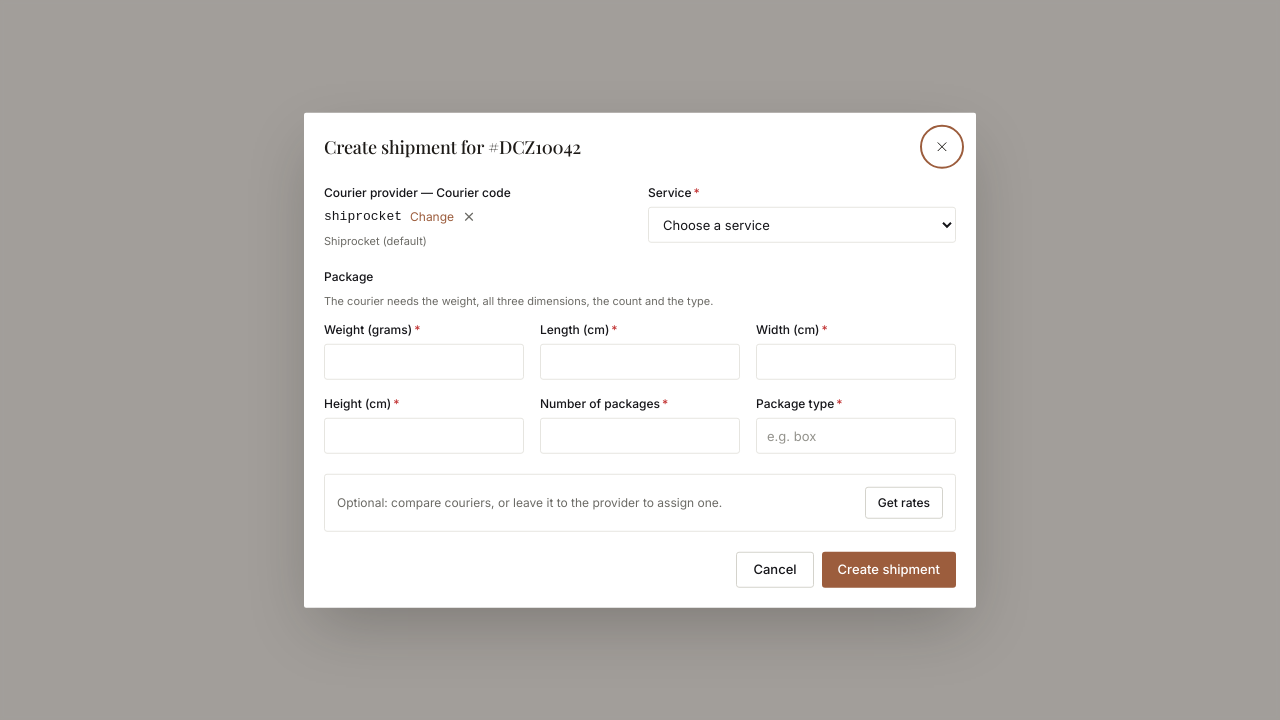
Scenario: CreateShipmentDialog › rates and courier choice › asks for the dimensions before fetching rates
Type "800" into the field labelled "Weight (grams)*".
click(424, 361); type("800")  # box x1=324 y1=343 x2=524 y2=379
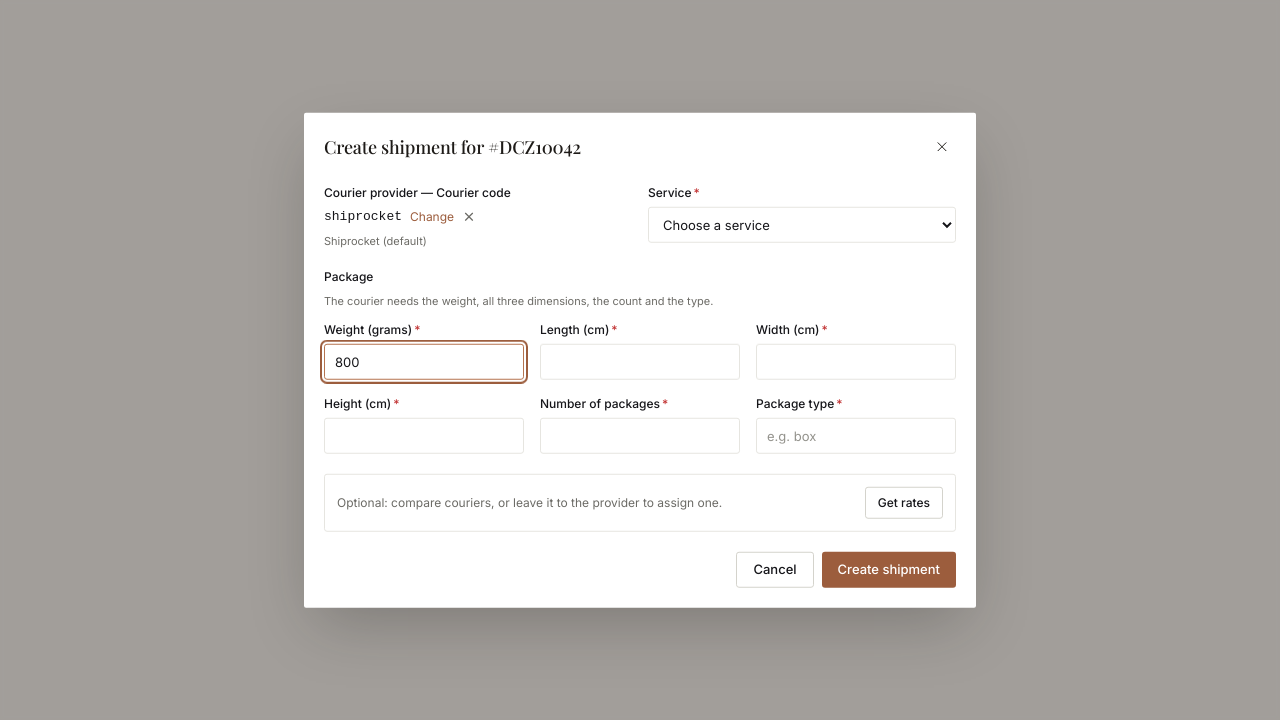
Click the button "Get rates".
click(904, 502)  # box x1=865 y1=486 x2=943 y2=518
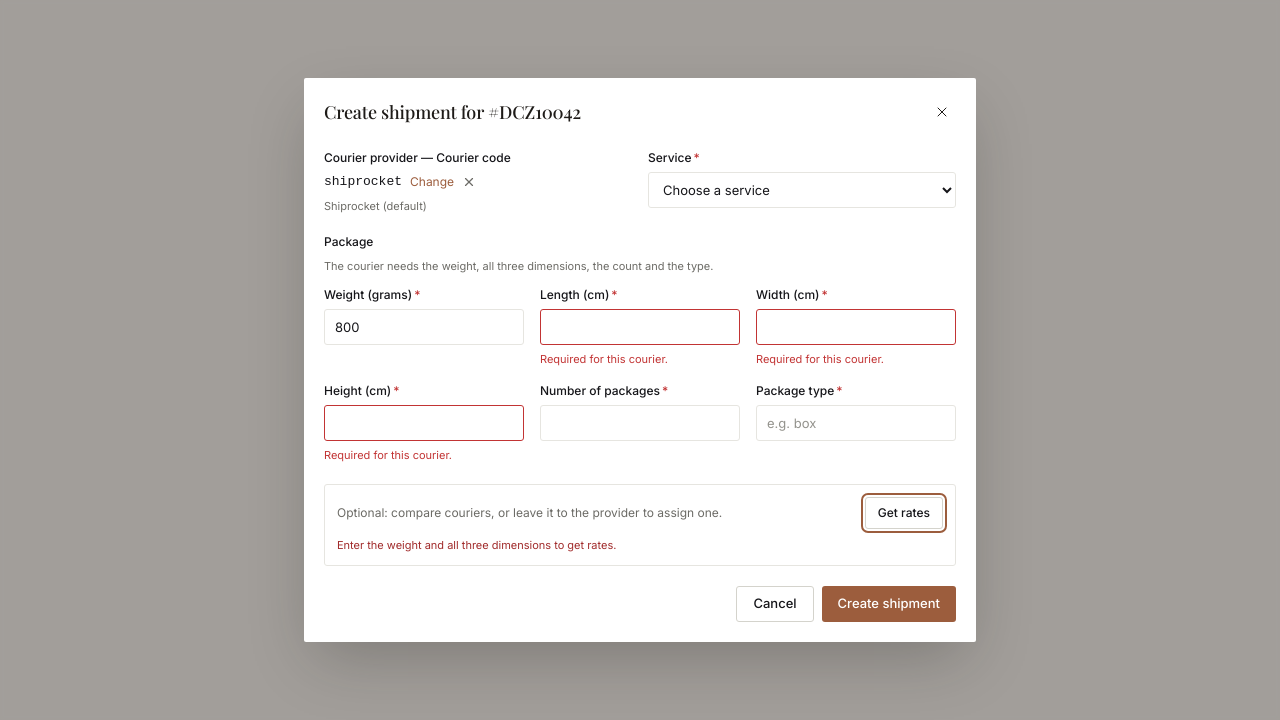
Now the text "Enter the weight and all three dimensions to get rates." is shown, box x1=337 y1=538 x2=616 y2=552
Now the text "Required for this courier." is shown 3 times, box x1=540 y1=352 x2=668 y2=366; x1=756 y1=352 x2=884 y2=366; x1=324 y1=448 x2=452 y2=462
